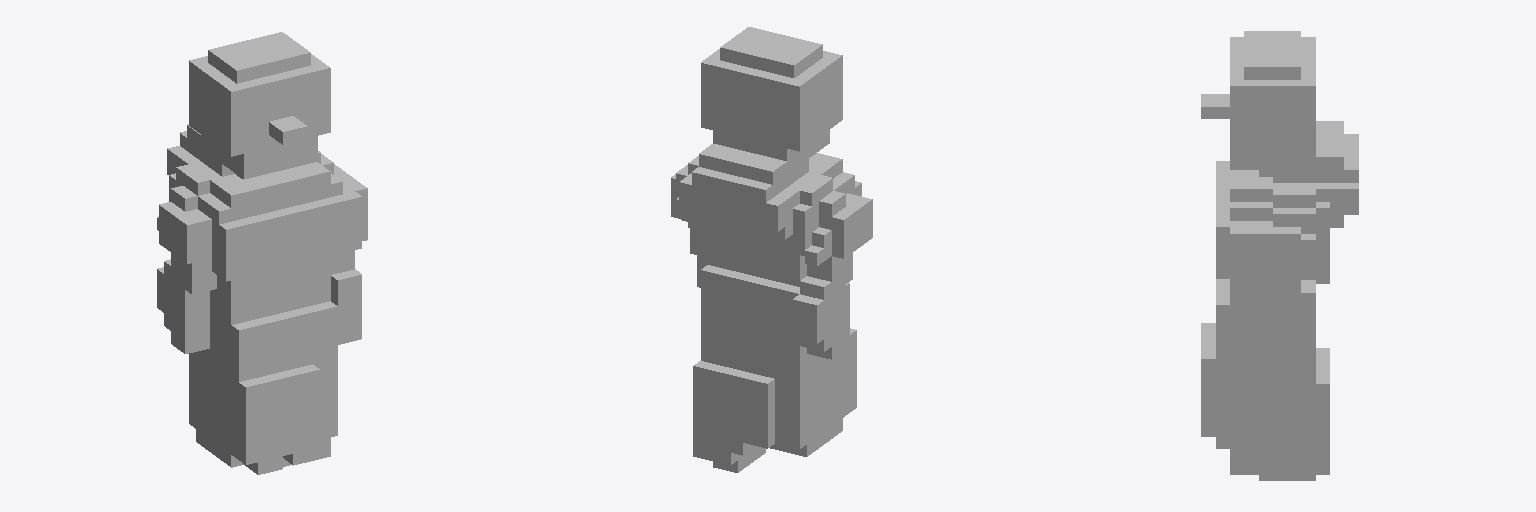
Rendered from monk-11.obj.
3 renders of one model, left to right at view 1: azimuth 30°, elevation 25°; view 2: azimuth 150°, elevation 25°; view 3: azimuth 270°, elevation 25°, orthographic.
Parts seen in each view (by area): view 1: monk 11; view 2: monk 11; view 3: monk 11.
Part boxes in pixels (x1,y1,x2,y2): monk 11: (157, 32, 367, 474); monk 11: (671, 27, 872, 472); monk 11: (1201, 31, 1358, 480).
Size of the model in its own units: 0.7 by 1.6 by 0.55.